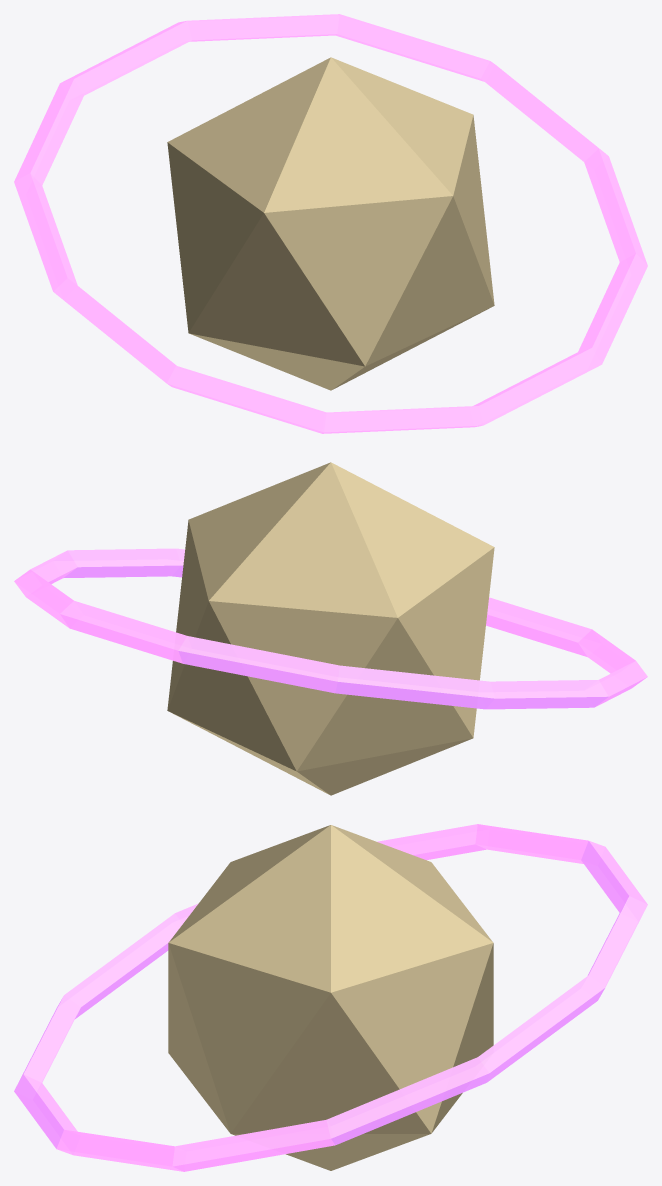
Rendered from ringed_planet.glb.
3 views of the same model, one above another, from view 1: azimuth 30°, elevation 25°; view 2: azimuth 150°, elevation 25°; view 3: azimuth 270°, elevation 25° (orthographic). The views are drawn at different scales.
Visible parts, largest first — view 1: ENV_RINGED_PLANET_01_LITE; view 2: ENV_RINGED_PLANET_01_LITE; view 3: ENV_RINGED_PLANET_01_LITE.
Boxes of the visible parts, x1,y1,x2,y2 form: ENV_RINGED_PLANET_01_LITE: (14,14,647,433); ENV_RINGED_PLANET_01_LITE: (14,462,647,795); ENV_RINGED_PLANET_01_LITE: (14,824,647,1171).
Bounding box in the file's own units: 62.8 × 36 × 59.73.
